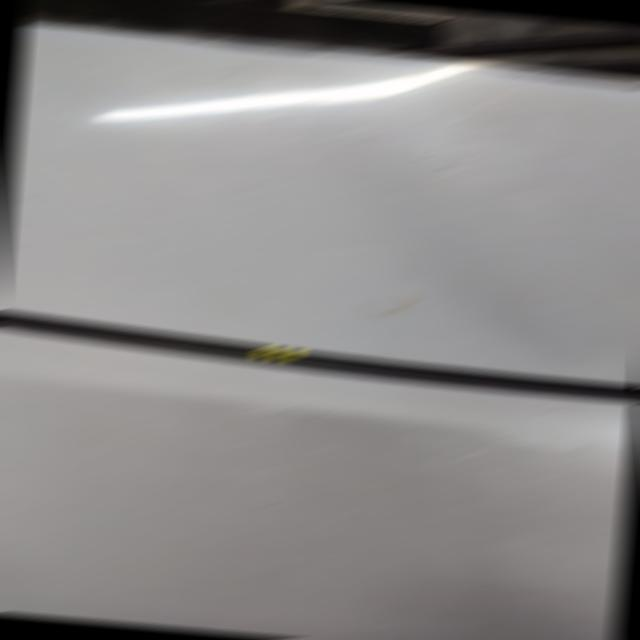yellow: (253, 347, 304, 360)
